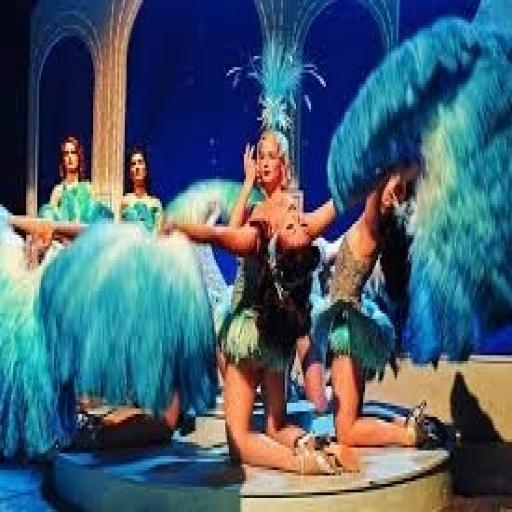dancing: (162, 126, 357, 478)
